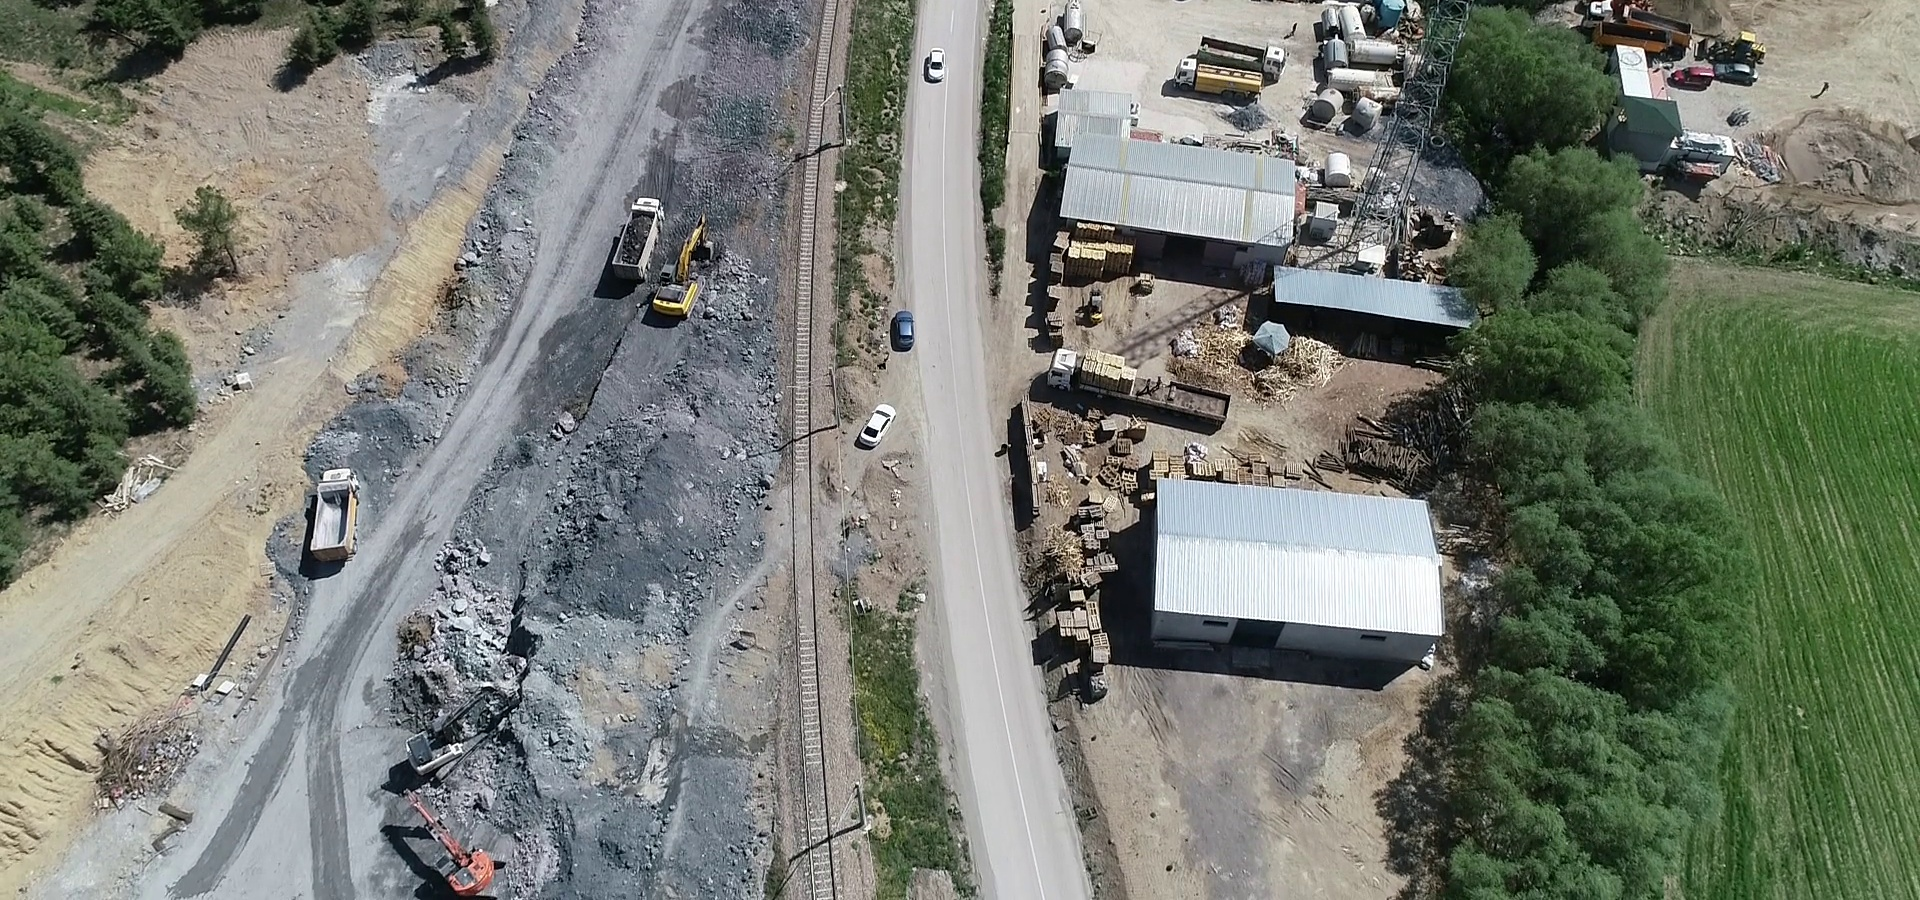araba: (850, 399, 901, 454), (883, 301, 924, 358), (1678, 54, 1725, 94), (1714, 56, 1767, 83), (921, 45, 955, 84)
insan: (1822, 72, 1832, 95), (1288, 20, 1300, 35)
ismakinesi: (403, 654, 532, 787), (405, 756, 510, 900), (641, 217, 730, 322)
kamyon: (1050, 340, 1241, 435), (292, 457, 376, 566), (600, 186, 666, 283), (1173, 53, 1275, 101), (1578, 1, 1708, 35), (1571, 19, 1689, 56), (1188, 36, 1295, 75)
traktor: (1709, 22, 1785, 54)
